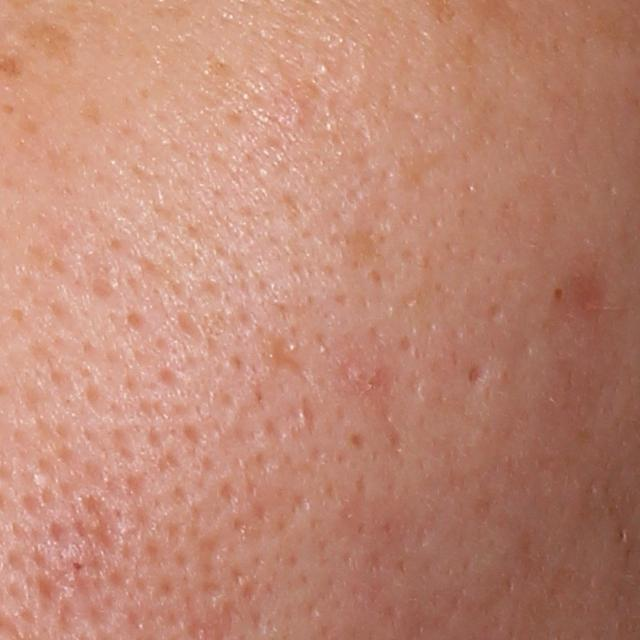atrophic_scar: (276, 53, 371, 174), (335, 348, 409, 456), (46, 496, 133, 584), (262, 329, 314, 381)
comedo: (551, 283, 568, 305)
melasma: (13, 14, 84, 68)
